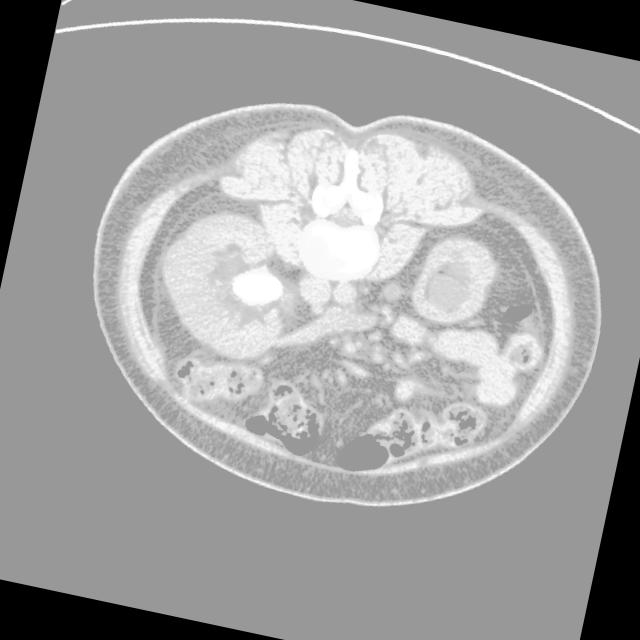TUMOR: (151, 154, 623, 517)
